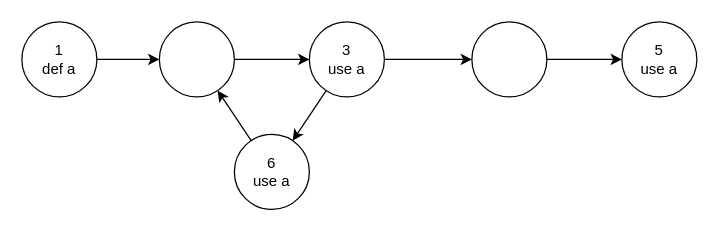
Some shapes in this 719 by 231 pixel diagram are drawn without their labels. The centre of each missing label's shape, as x and y in pixels:
"2 use a" belongs at (196,59).
"4 def a" belongs at (509,59).
